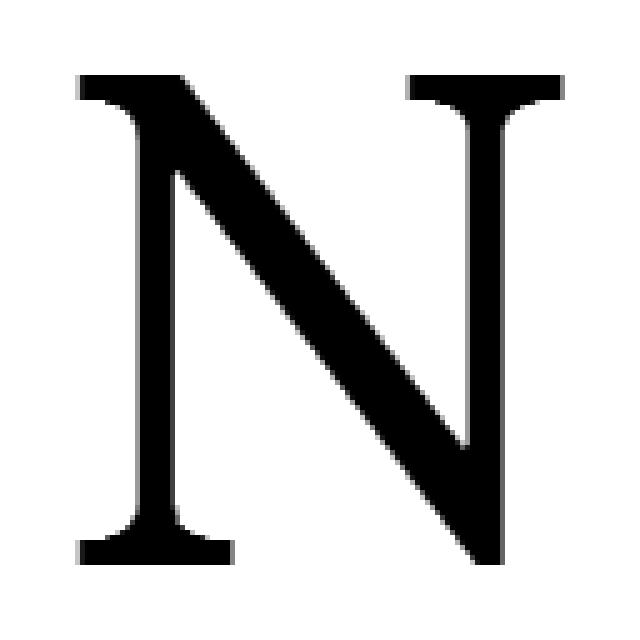N: (60, 60, 565, 570)
